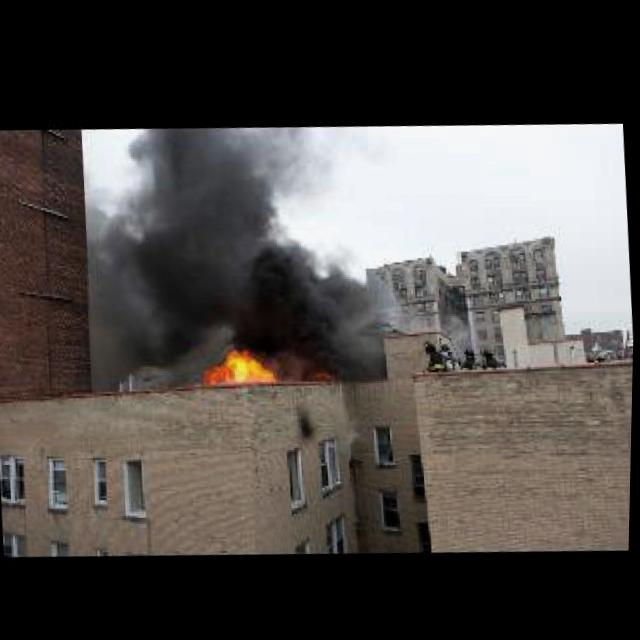Fire: (196, 333, 286, 390)
Smoke: (96, 113, 350, 367)
